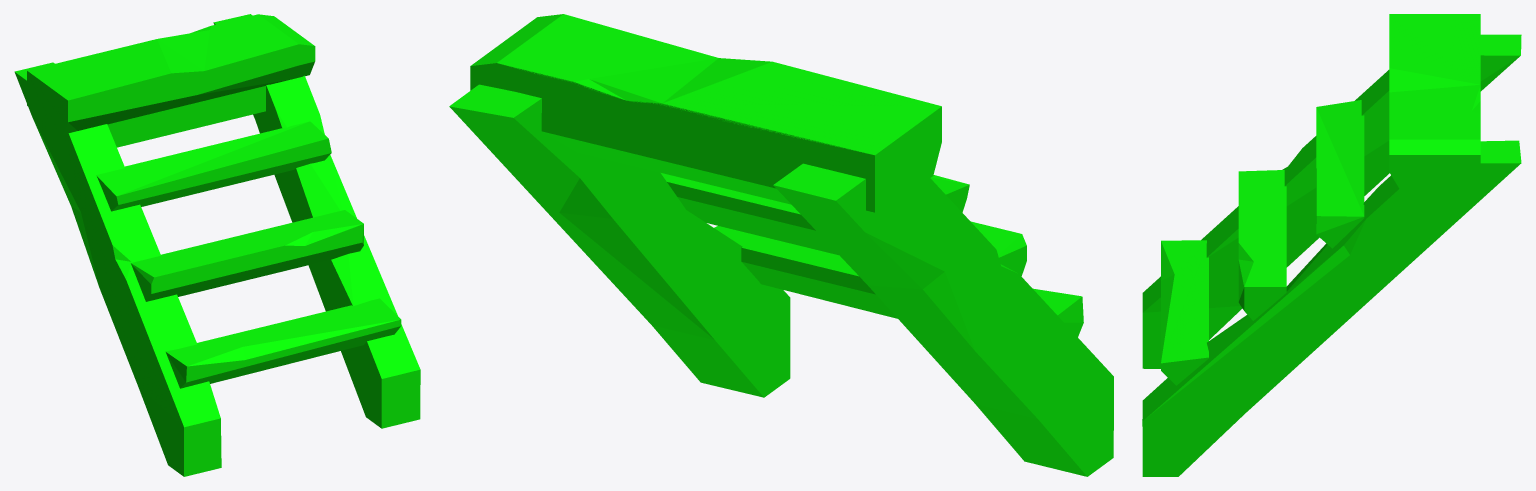
Rendered from SM_Stairs_Wood_Regular_1m_Fantasy.fbx.
3 renders of one model, left to right at view 1: azimuth 30°, elevation 25°; view 2: azimuth 150°, elevation 25°; view 3: azimuth 270°, elevation 25°, orthographic. The views are drawn at different scales.
Visible parts, largest first — view 1: stairs-wood-regular-1m-fantasy; view 2: stairs-wood-regular-1m-fantasy; view 3: stairs-wood-regular-1m-fantasy.
Part boxes in pixels (x1,y1,x2,y2): stairs-wood-regular-1m-fantasy: [14, 14, 420, 476]; stairs-wood-regular-1m-fantasy: [449, 14, 1113, 476]; stairs-wood-regular-1m-fantasy: [1142, 14, 1521, 476].
Size of the model in its own units: 1.03 by 1.19 by 1.22.
